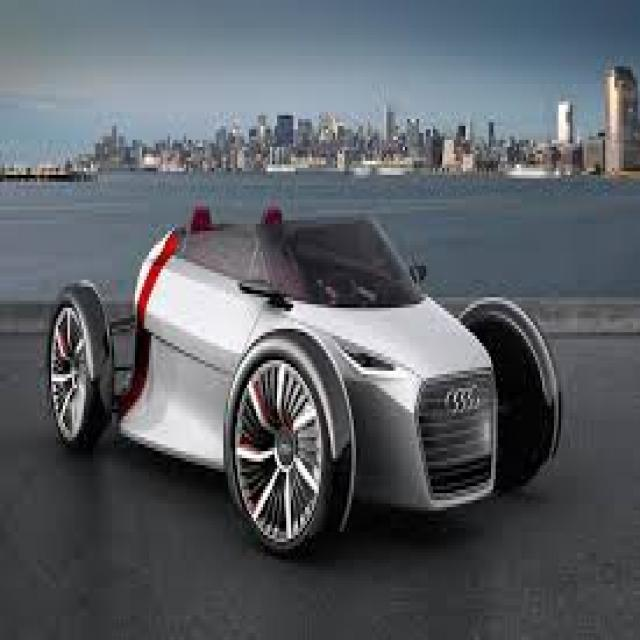car: (37, 189, 566, 549)
